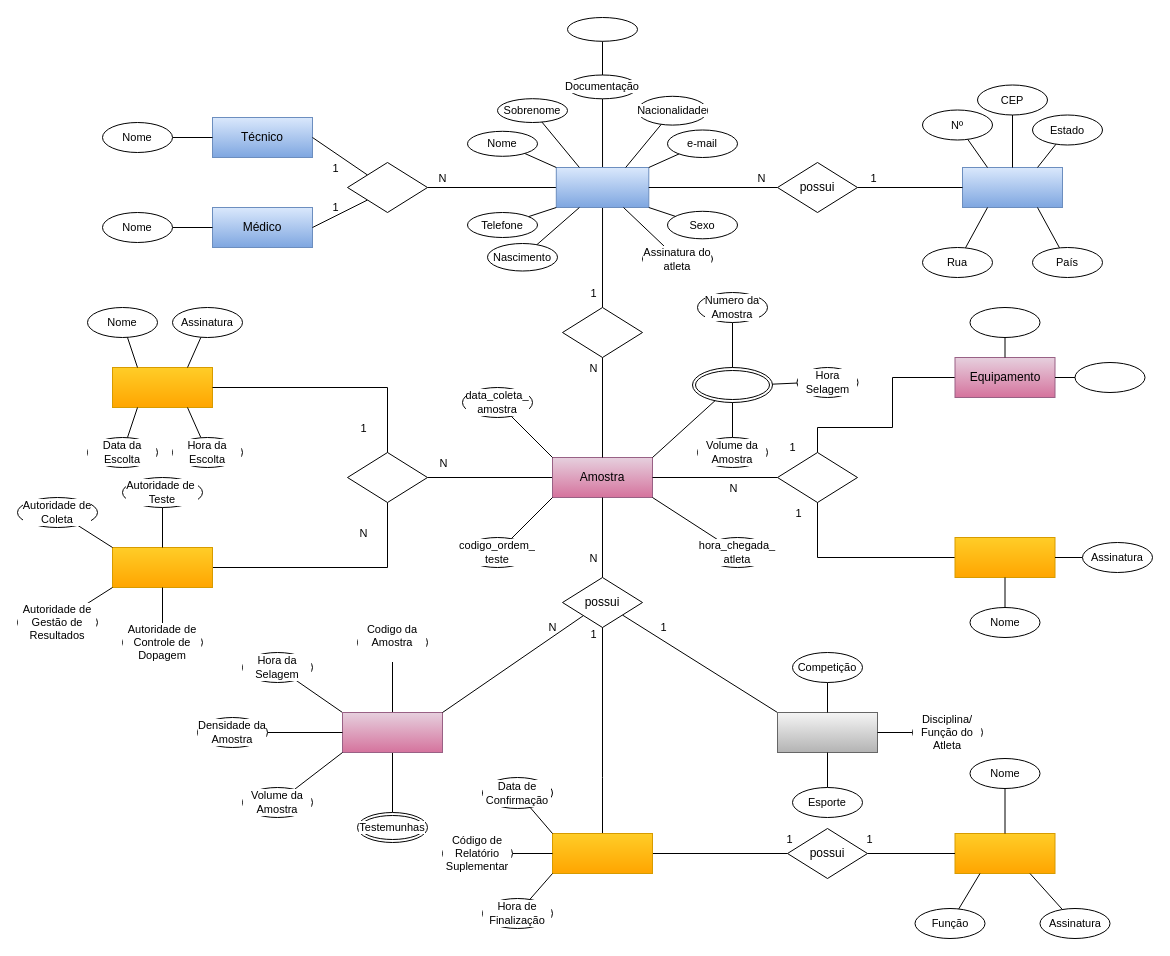
Some shapes in this 1170 by 956 pixel diagram are drawn without their labels. The shapes that lost their labels are listed below. From the top down, each one's box as (x1, y1, x2, y2) in pixels, then its label:
(566, 16, 638, 41): Numero
(346, 162, 428, 212): orientado por
(555, 166, 649, 208): Atleta
(962, 166, 1062, 208): Endereço
(562, 306, 642, 358): fornece
(969, 306, 1040, 338): Marca do Fabricante
(112, 366, 212, 408): Escolta
(692, 366, 772, 402): Amostra Parcial
(1074, 362, 1145, 392): Modelo do Aparelho
(346, 452, 428, 502): fiscalizada por
(776, 452, 858, 502): realiza por
(112, 546, 212, 588): Autoridades
(954, 536, 1055, 578): Oficial de Controle de Dopagem
(342, 712, 442, 752): Tipos Amostra
(776, 712, 878, 752): Evento
(552, 832, 652, 874): Confirmação
(954, 832, 1055, 874): Representante do Atleta
